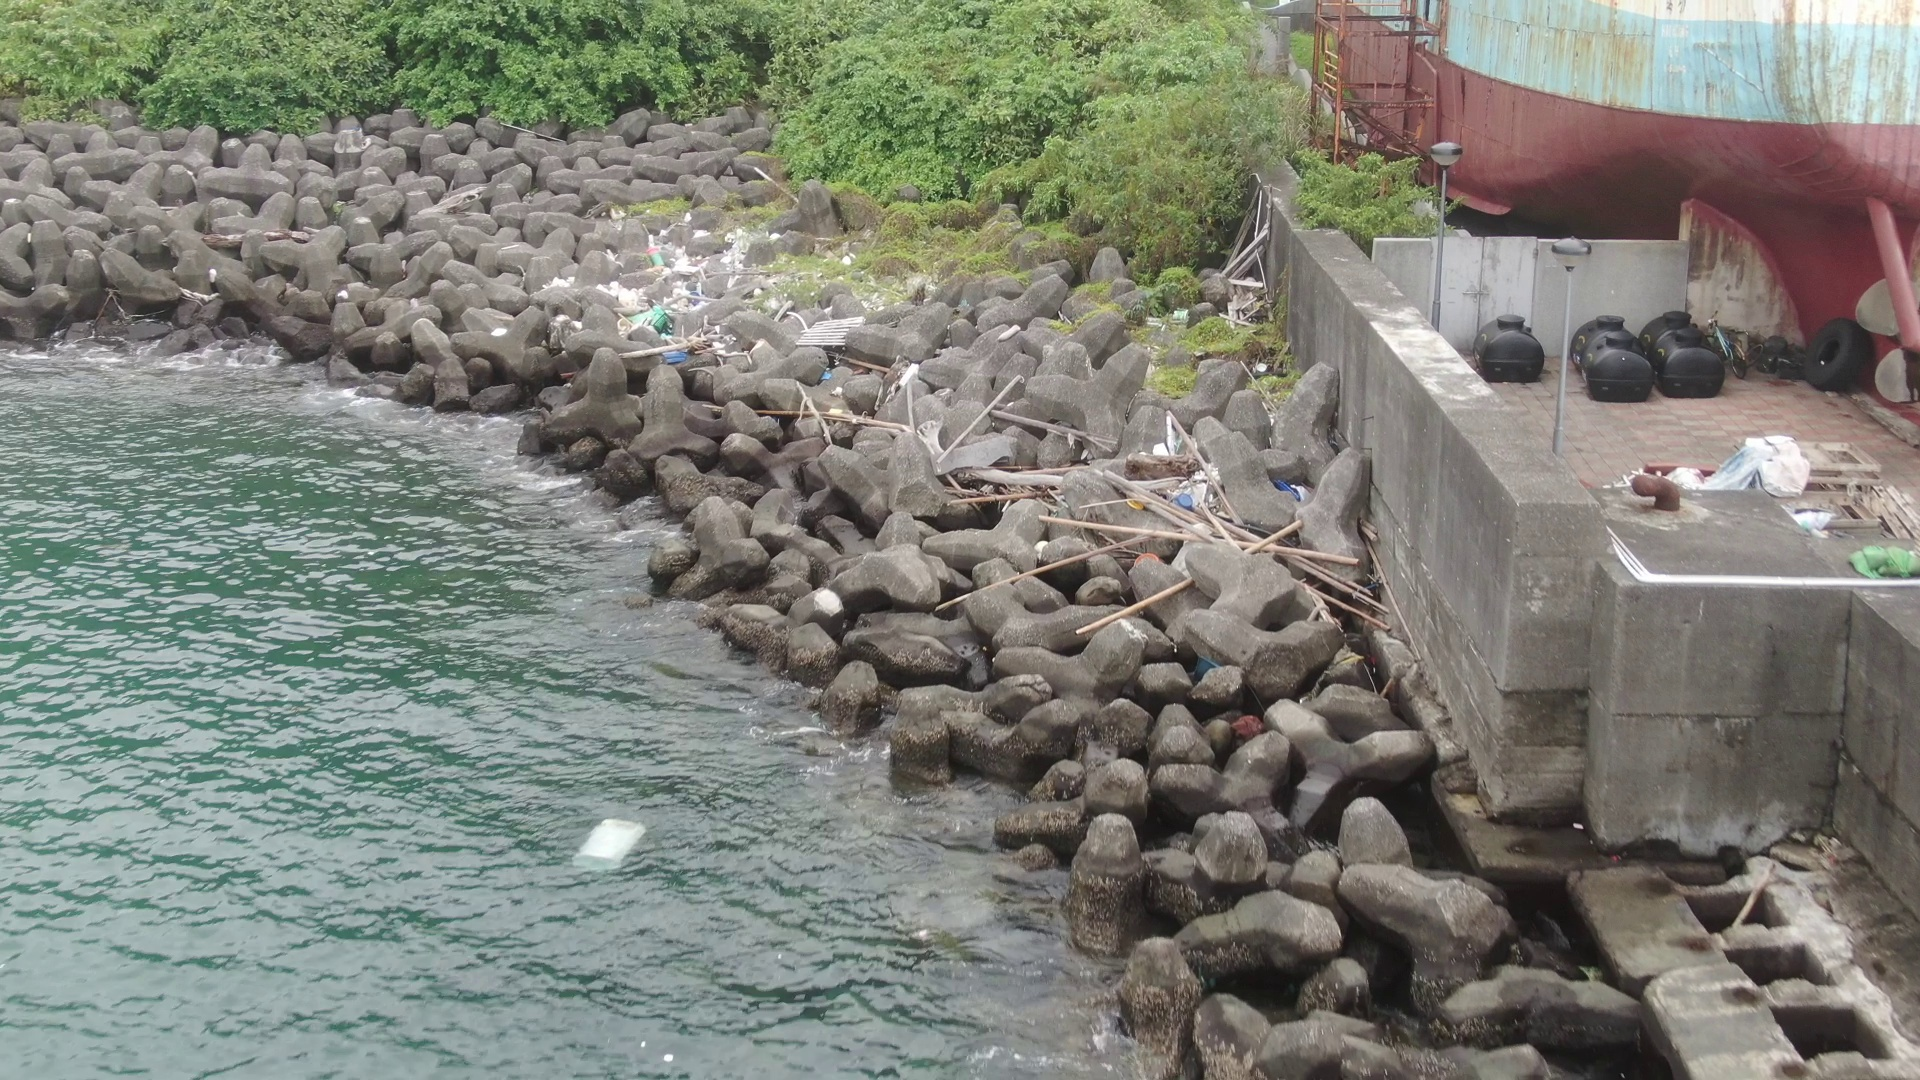garbage: (1011, 406, 1389, 642), (781, 316, 1131, 512), (541, 215, 864, 356), (1695, 427, 1821, 502), (568, 800, 651, 877), (1845, 531, 1920, 592)
